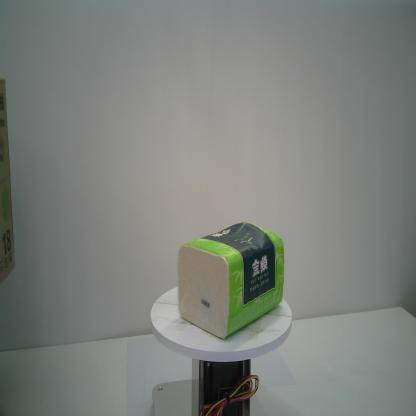Tissue: (176, 220, 286, 341)
